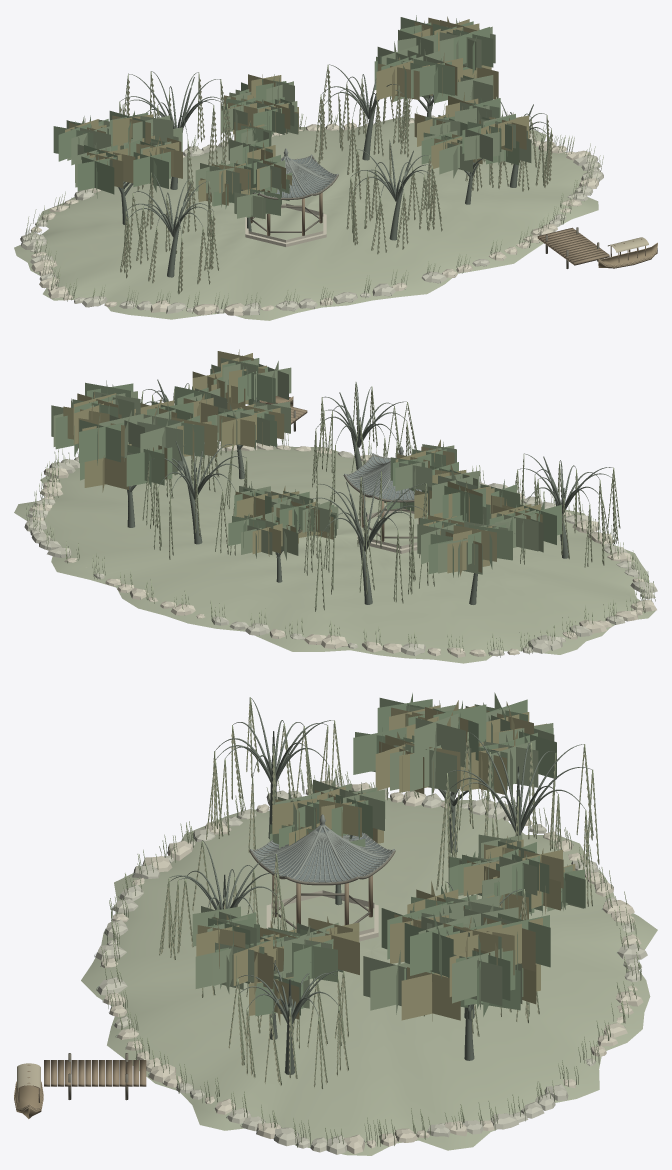
File: ruan-islet.glb
3 renders of one model, top to bottom at view 1: azimuth 30°, elevation 25°; view 2: azimuth 150°, elevation 25°; view 3: azimuth 270°, elevation 25°, orthographic. The views are drawn at different scales.
Parts seen in each view (by area): view 1: earth, crown1, crown0, leaf1, crown2, leaf2, bark, stone, stone2, wood, ridge, roof (+2 smaller); view 2: earth, crown0, crown1, crown2, leaf1, bark, stone, stone2, leaf2, ridge, roof, wooddark; view 3: earth, crown2, crown1, crown0, leaf1, stone, stone2, bark, leaf2, ridge, wood, roof (+2 smaller).
Part boxes in pixels (left/top/right/bottom): earth: left=14, top=116, right=598, bottom=320; crown1: left=66, top=26, right=531, bottom=219; crown0: left=53, top=15, right=519, bottom=218; leaf1: left=25, top=65, right=603, bottom=313; crown2: left=65, top=16, right=529, bottom=205; leaf2: left=120, top=70, right=552, bottom=293; bark: left=118, top=64, right=551, bottom=277; stone: left=30, top=119, right=598, bottom=315; stone2: left=20, top=115, right=603, bottom=315; wood: left=250, top=192, right=645, bottom=265; ridge: left=254, top=148, right=338, bottom=197; roof: left=275, top=156, right=335, bottom=197; earth: left=14, top=446, right=655, bottom=663; crown0: left=55, top=355, right=561, bottom=577; crown1: left=51, top=355, right=543, bottom=577; crown2: left=63, top=349, right=542, bottom=576; leaf1: left=26, top=382, right=655, bottom=657; bark: left=106, top=379, right=612, bottom=604; stone: left=29, top=442, right=656, bottom=657; stone2: left=24, top=444, right=657, bottom=656; leaf2: left=142, top=387, right=619, bottom=608; ridge: left=344, top=446, right=421, bottom=500; roof: left=347, top=456, right=421, bottom=499; wooddark: left=260, top=402, right=417, bottom=538; earth: left=81, top=797, right=657, bottom=1155; crown2: left=196, top=700, right=575, bottom=1024; crown1: left=192, top=700, right=584, bottom=1014; crown0: left=208, top=692, right=585, bottom=1018; leaf1: left=101, top=697, right=641, bottom=1147; stone: left=101, top=780, right=643, bottom=1154; stone2: left=95, top=789, right=647, bottom=1154; bark: left=169, top=697, right=592, bottom=1074; leaf2: left=159, top=705, right=598, bottom=1089; ridge: left=250, top=814, right=395, bottom=882; wood: left=17, top=875, right=372, bottom=1102; roof: left=253, top=828, right=391, bottom=881.
Bounding box in the file's own units: 53.96 × 12.03 × 39.47.
